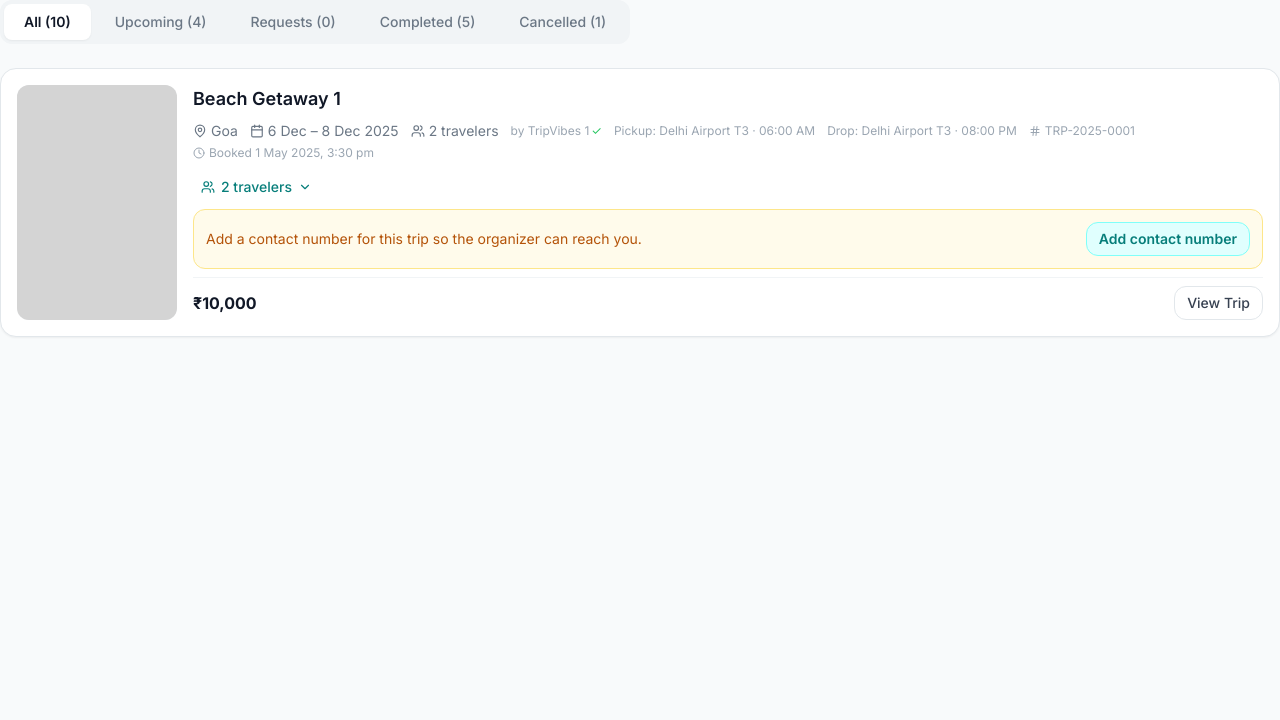
Test: MyBookingsList › should open the contact-verification modal when the banner button is clicked
Check: the text "Add a contact number for this trip" is shown, box [206,230,642,247]
Click the button "Add contact number" at x=1168, y=239, box [1086,222,1250,256]
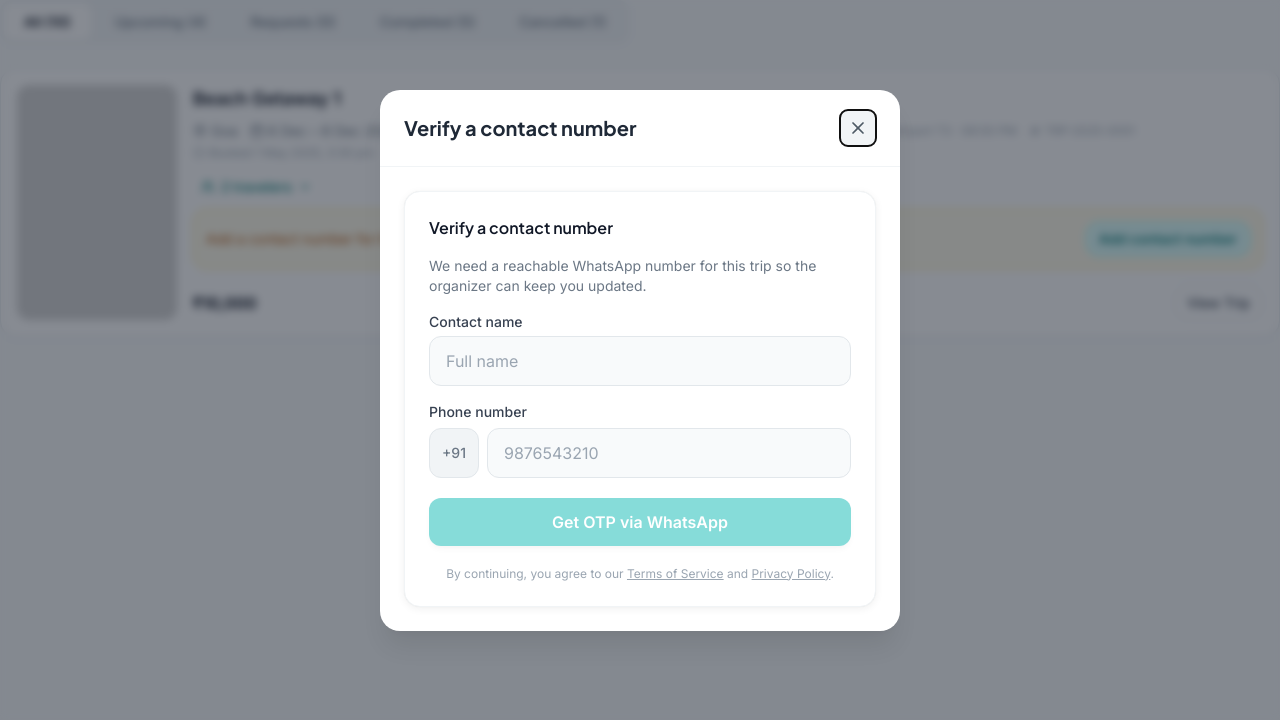
Check: the 1st heading "Verify a contact number" is shown, box [404,114,636,142]
